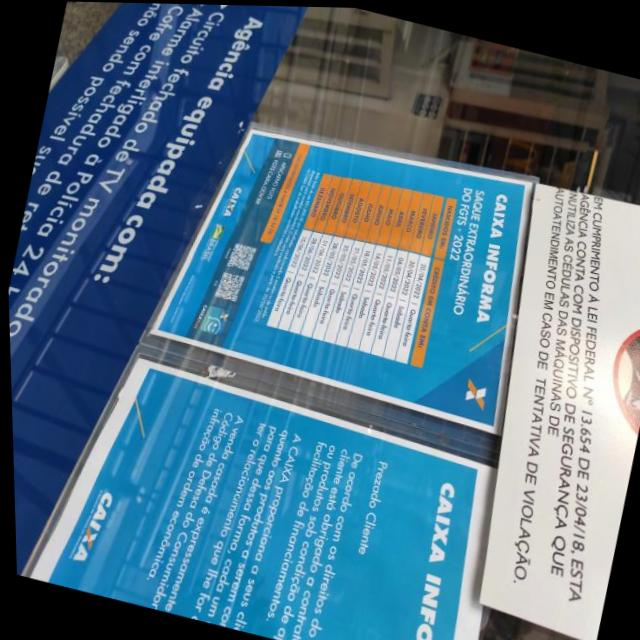qrcode: (211, 271, 242, 303), (223, 241, 256, 271)
